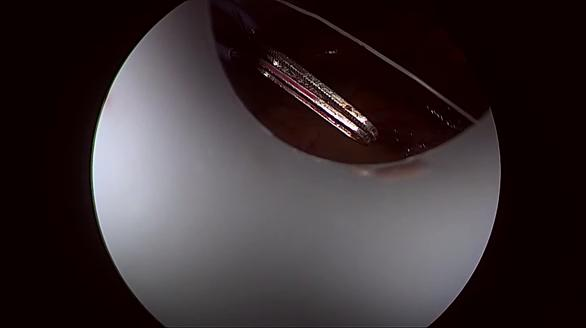Bipolar: (219, 4, 383, 154)
